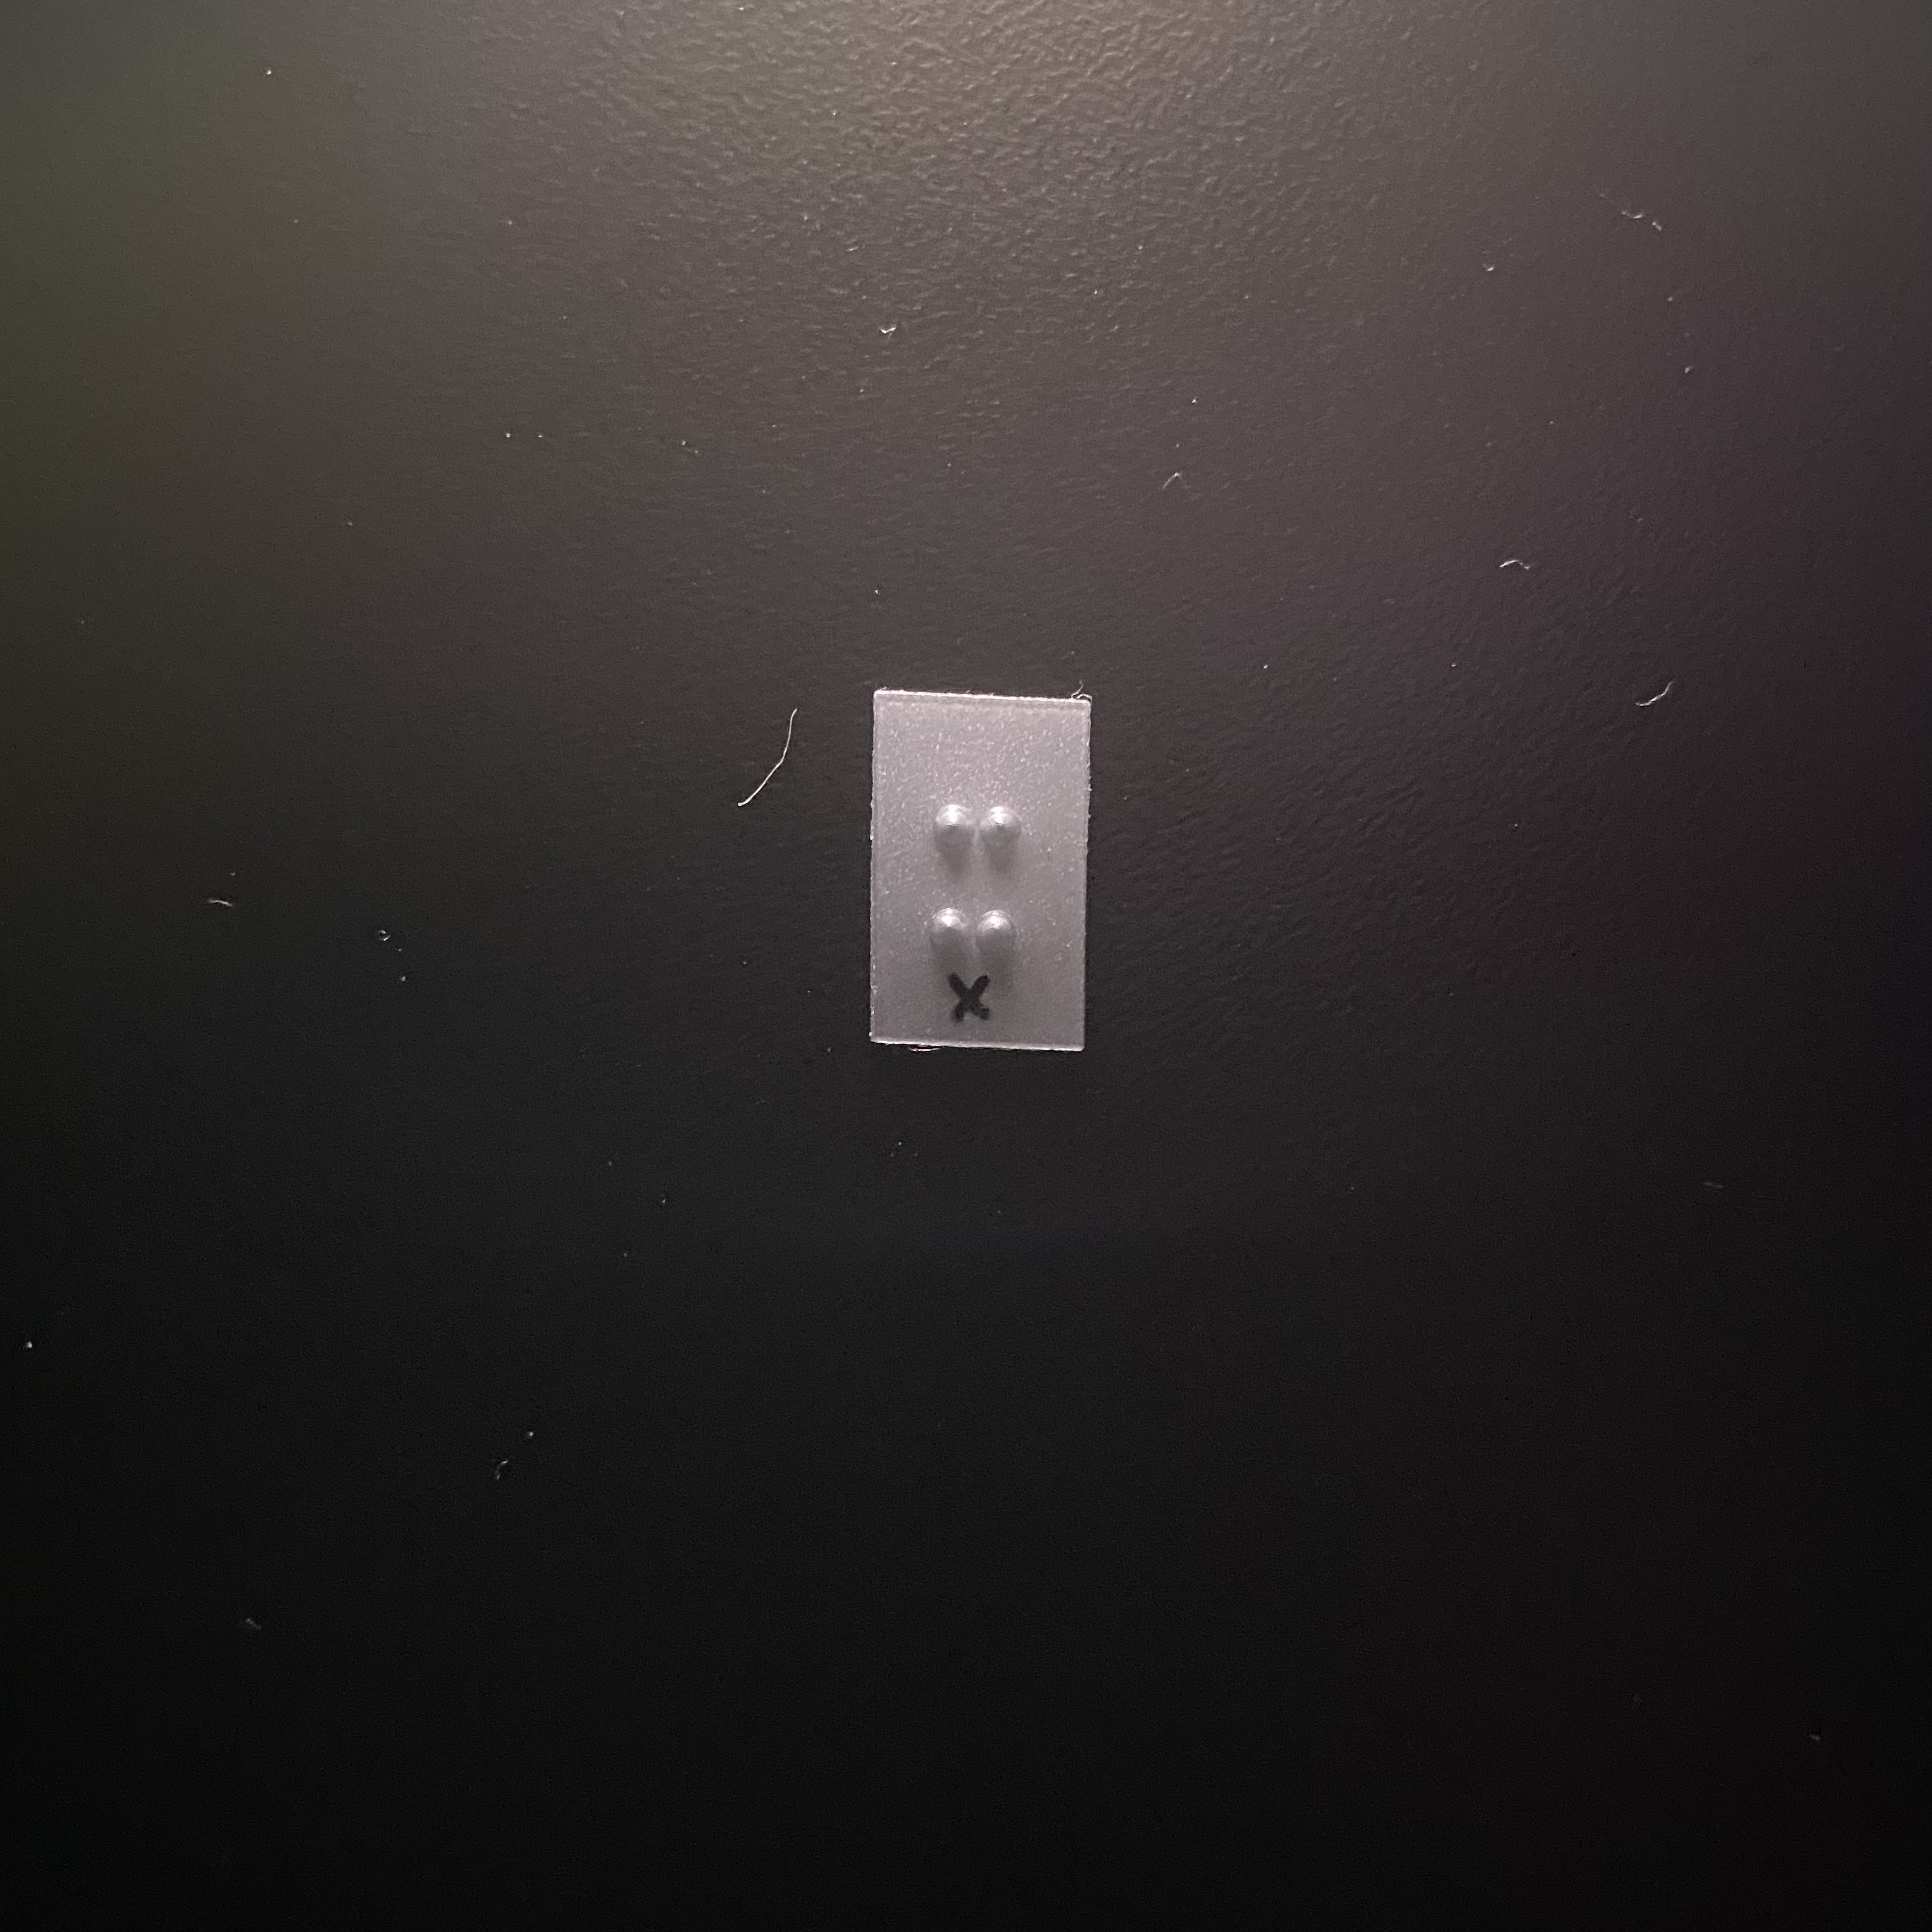x: (924, 788, 1028, 980)
